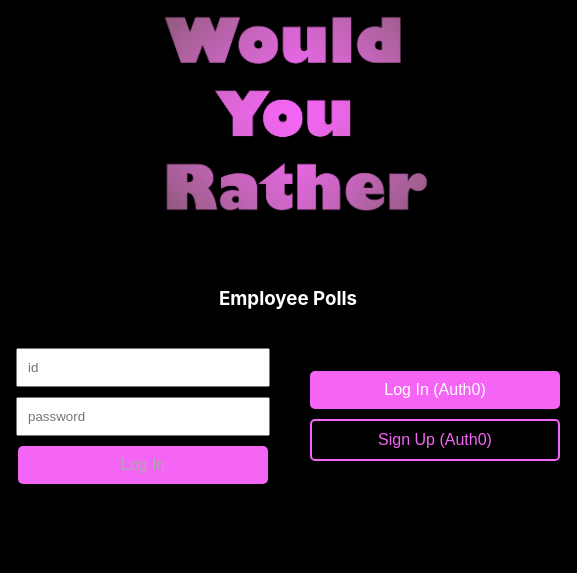
testing <LoginPage /> › should disaply errors when password not matched.
Type "sarahedo" into the field with test id "id-input". click: {"x": 143, "y": 368}
box: x1=16 y1=348 x2=270 y2=387
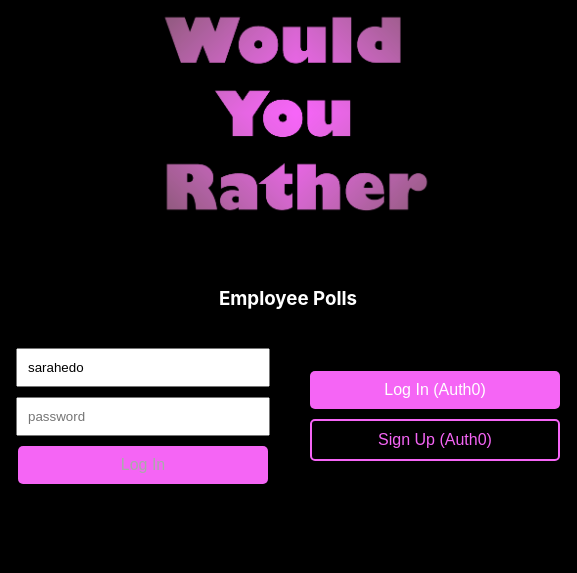
Type "test" into the password field with test id "pw-input". click: {"x": 143, "y": 417}
box: x1=16 y1=397 x2=270 y2=436
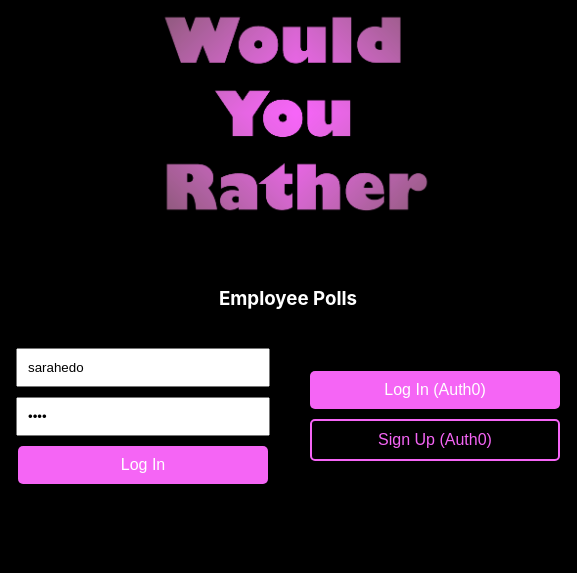
Submit the form with test id "login-form", box x1=16 y1=348 x2=270 y2=494
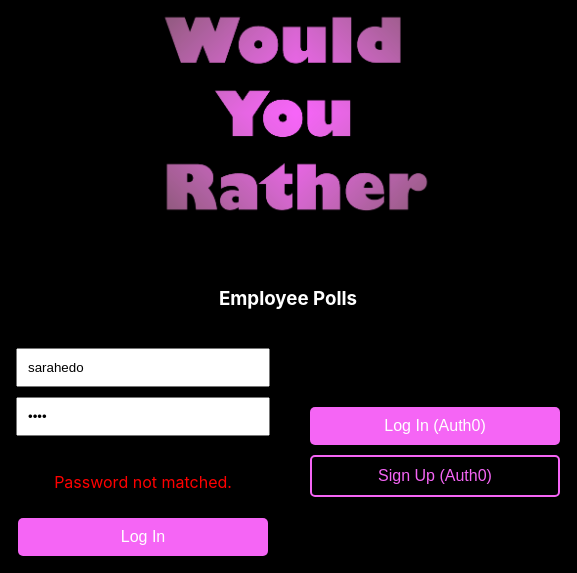
Expected: the element with test id "errors-list" reads "Password not matched.", x1=54 y1=472 x2=232 y2=492
